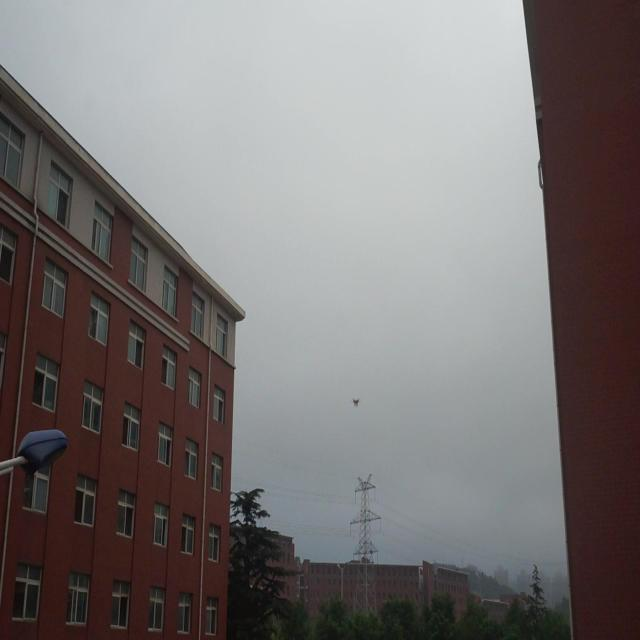drone: (350, 393, 362, 409)
